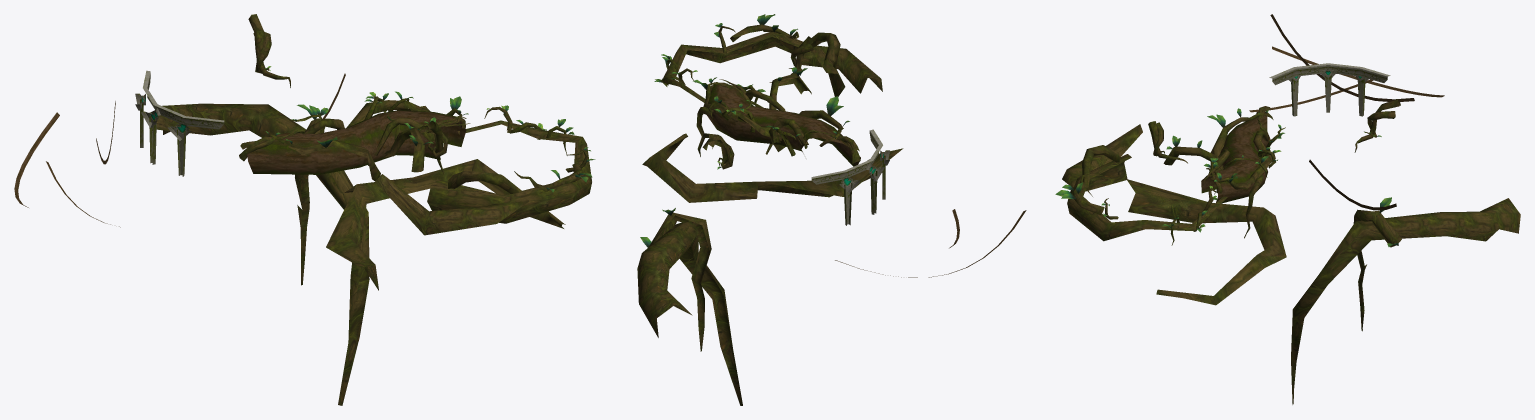
Rendered from terrain_section04_guanka04.FBX.
3 views of the same model, side by side, from view 1: azimuth 30°, elevation 25°; view 2: azimuth 150°, elevation 25°; view 3: azimuth 270°, elevation 25° (orthographic). The views are drawn at different scales.
Visible parts, largest first — view 1: terrain_section04_guanka04; view 2: terrain_section04_guanka04; view 3: terrain_section04_guanka04.
Part boxes in pixels (box(x1,y1,x2,y2)): terrain_section04_guanka04: box(14, 14, 595, 405); terrain_section04_guanka04: box(637, 14, 1026, 405); terrain_section04_guanka04: box(1055, 14, 1520, 404).
Bounding box in the file's own units: 134 × 97.84 × 140.
